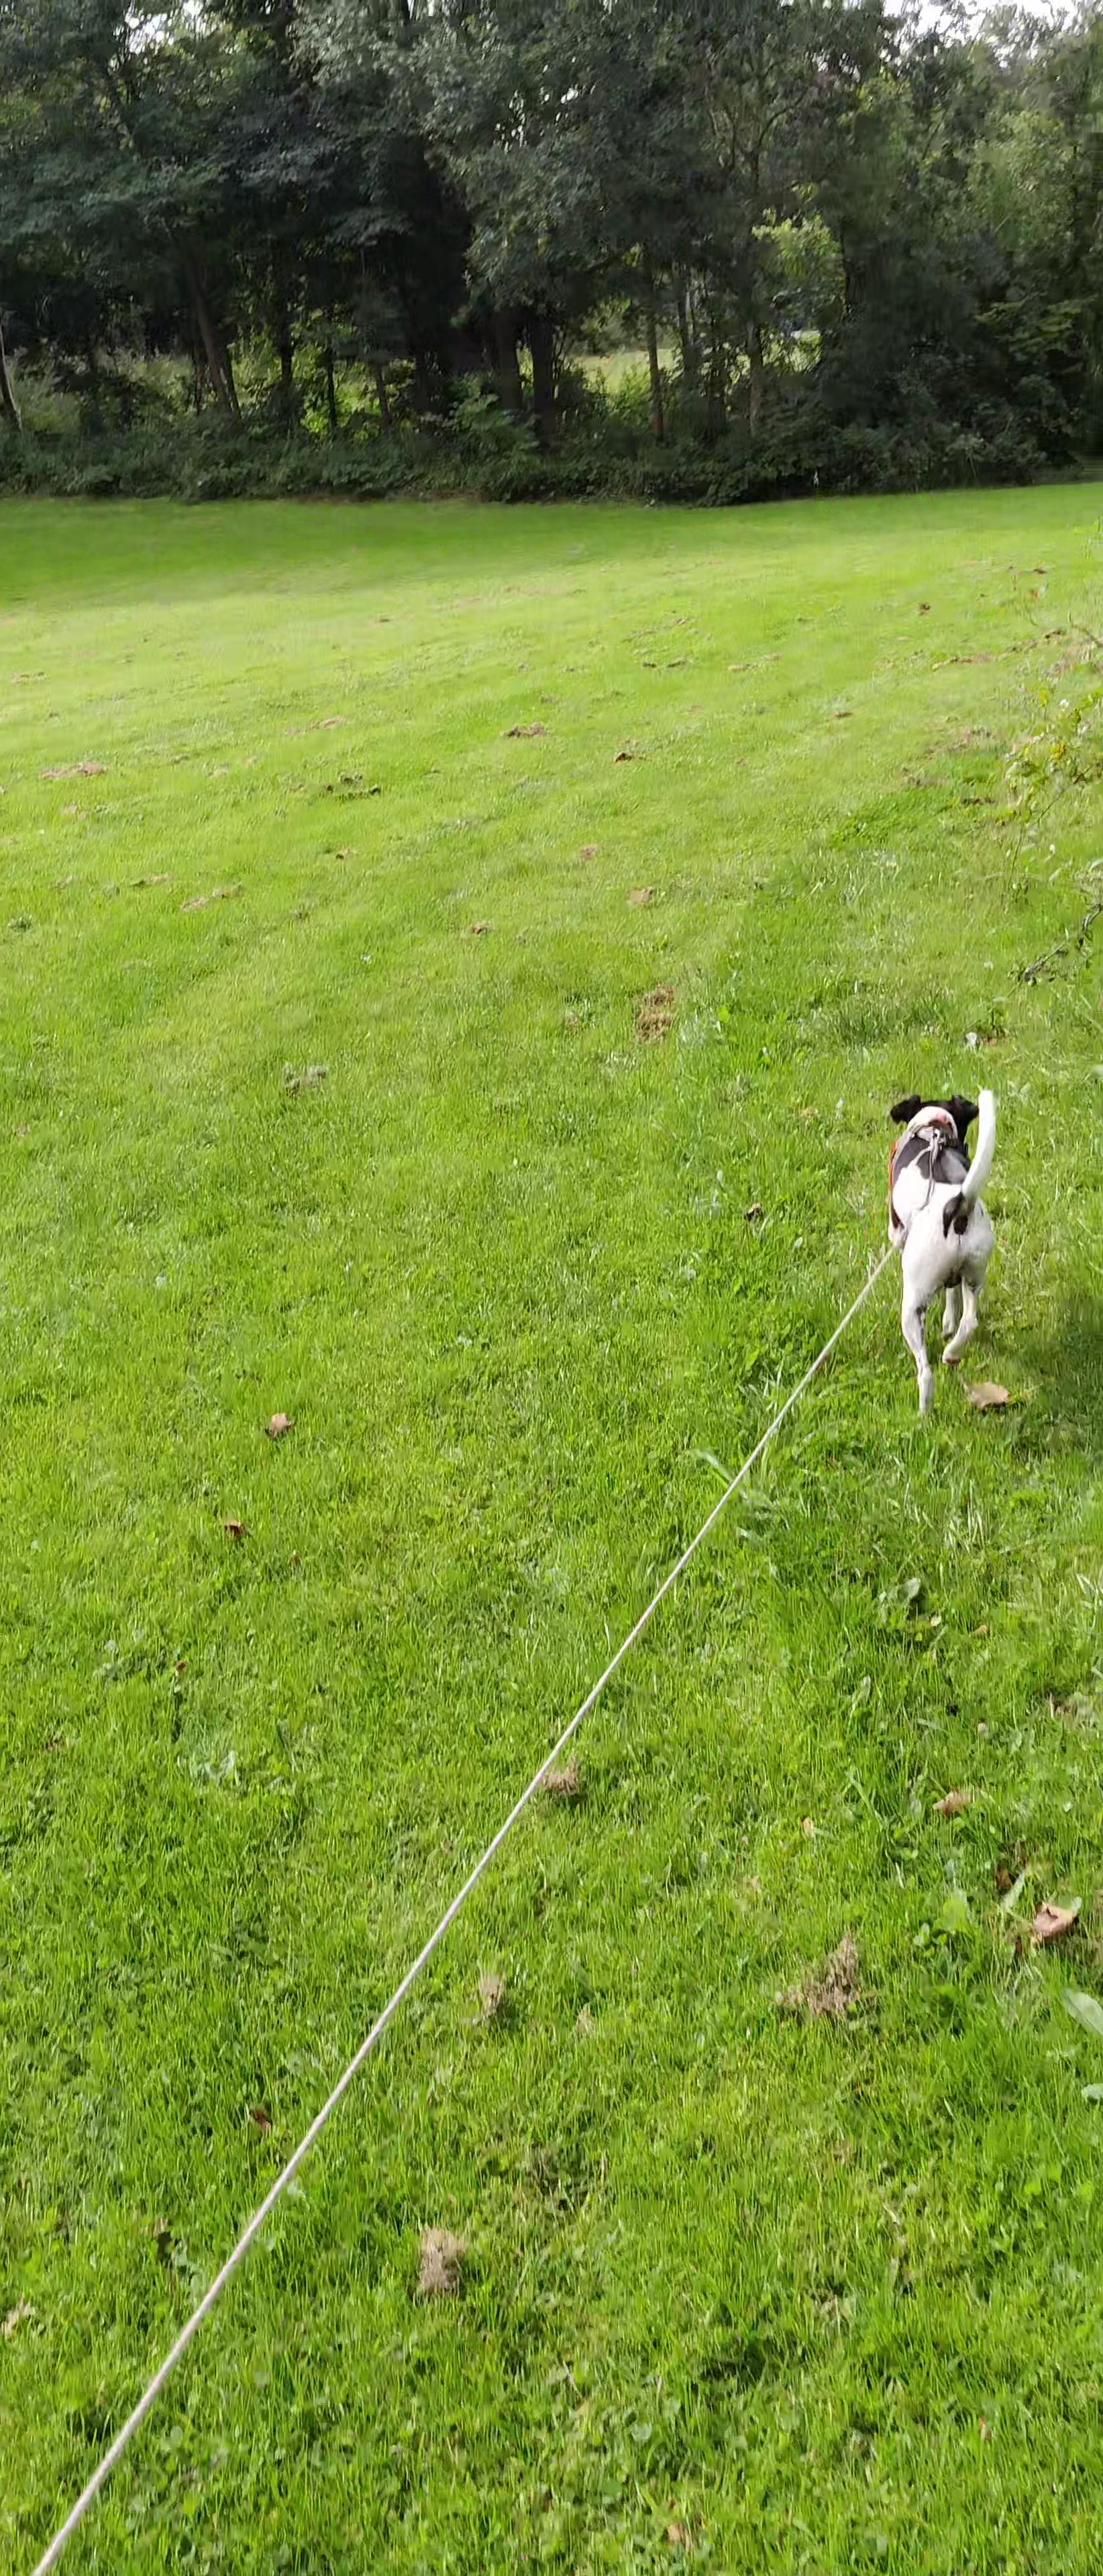Dog: (873, 1076, 1016, 1416)
